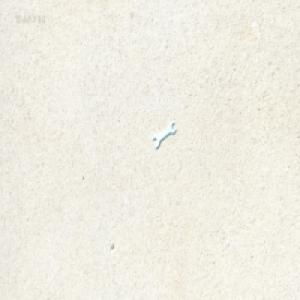Wrench: (152, 120, 174, 148)
